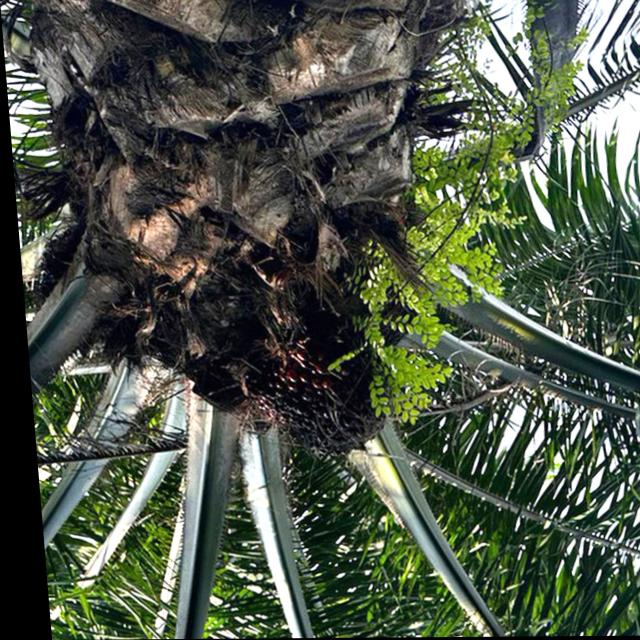ripe: (234, 309, 379, 444)
